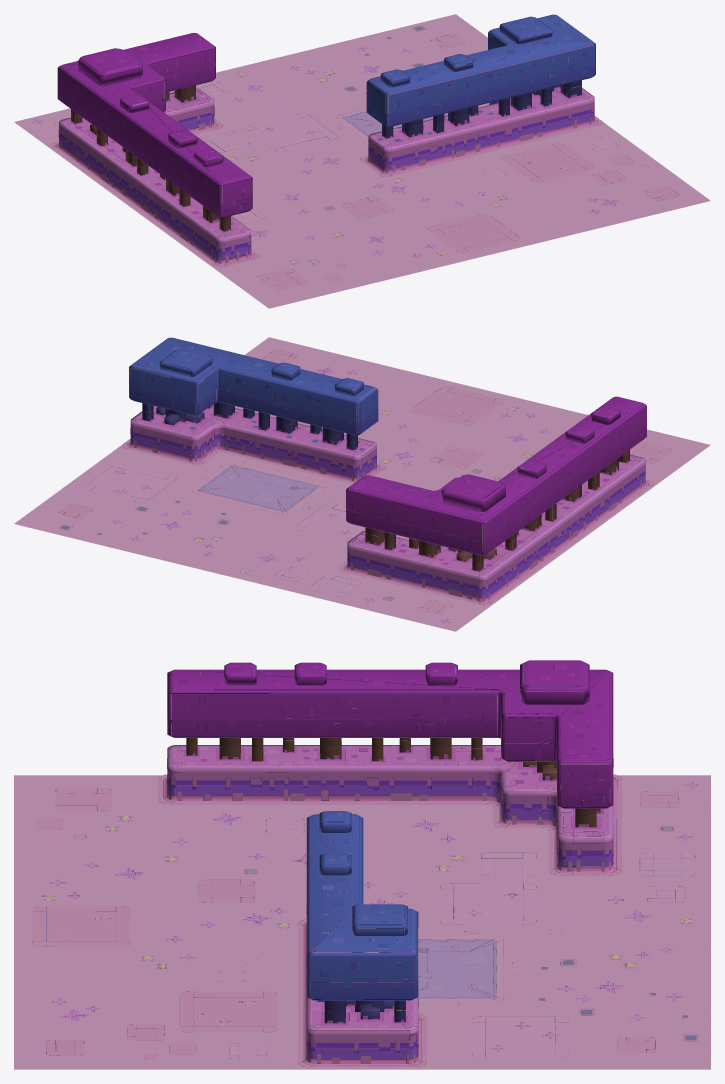
The model's file is C_forest2_05.fbx.
3 views of the same model, one above another, from view 1: azimuth 30°, elevation 25°; view 2: azimuth 150°, elevation 25°; view 3: azimuth 270°, elevation 25° (orthographic). The views are drawn at different scales.
Visible parts, largest first — view 1: C_forest2_05.001; view 2: C_forest2_05.001; view 3: C_forest2_05.001.
Part boxes in pixels (box(x1,y1,x2,y2)): C_forest2_05.001: box(14, 14, 710, 308); C_forest2_05.001: box(14, 337, 710, 631); C_forest2_05.001: box(14, 660, 710, 1069).
Size of the model in its own units: 50 by 10.15 by 50.
